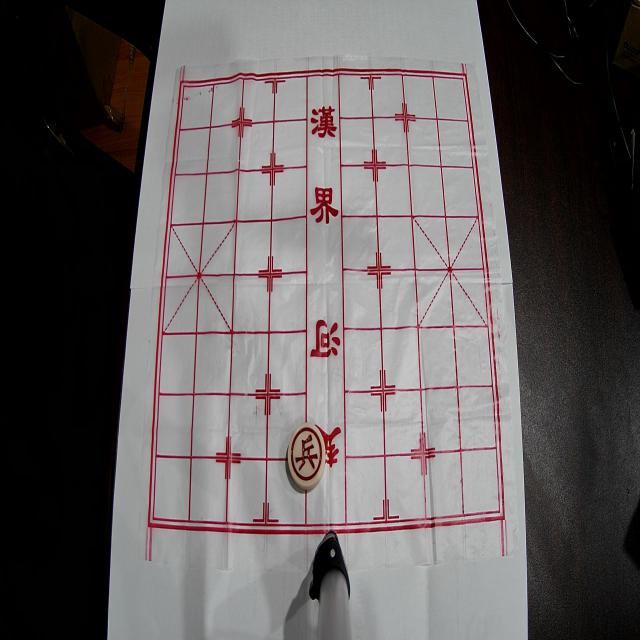red-soldier: (288, 423, 326, 489)
